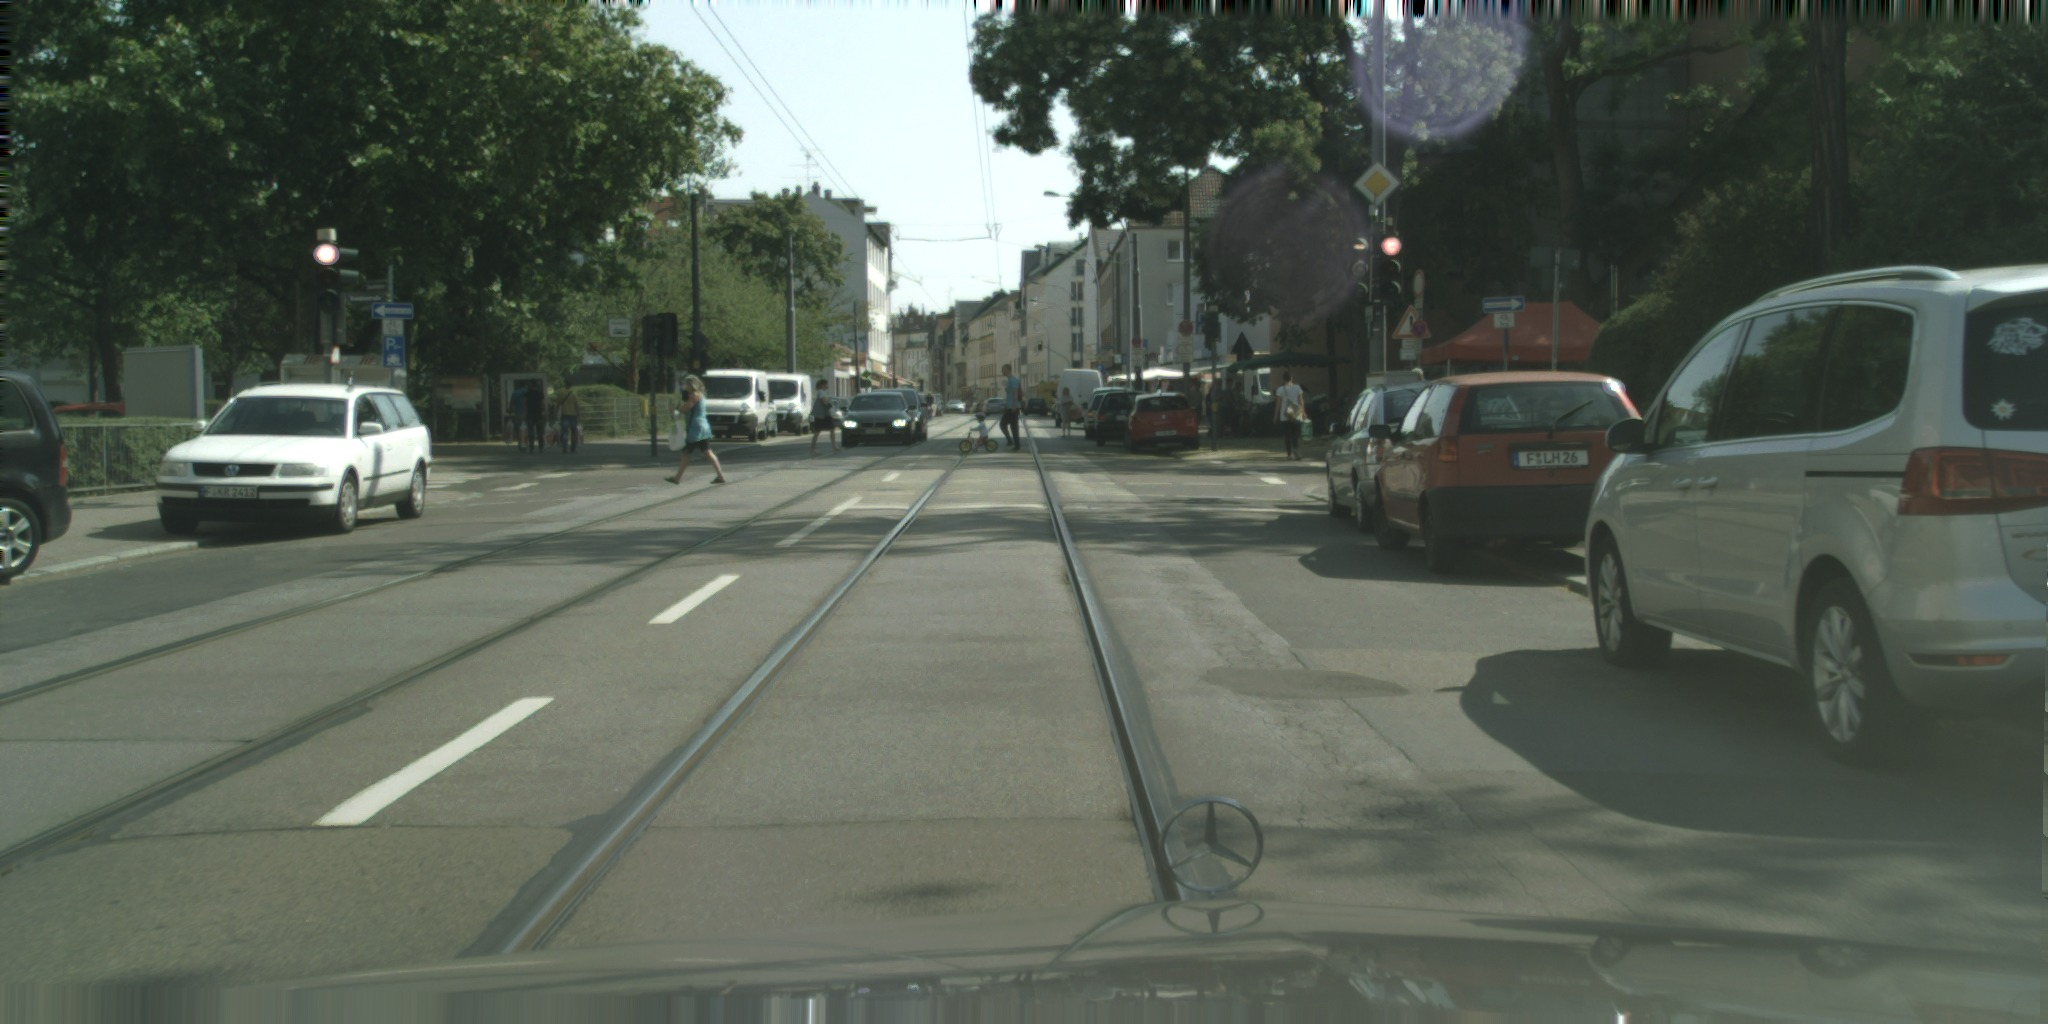bicycle: (958, 429, 998, 454)
car: (1584, 264, 2048, 773), (1368, 369, 1648, 572), (156, 371, 431, 537), (1325, 383, 1430, 534), (0, 372, 71, 580), (697, 368, 769, 443), (1120, 389, 1199, 455), (840, 392, 915, 448), (764, 372, 813, 437), (1092, 390, 1147, 447), (1051, 369, 1103, 428), (875, 389, 929, 443), (1082, 387, 1133, 440), (809, 397, 856, 433), (758, 395, 778, 440), (1037, 382, 1063, 413), (1023, 399, 1048, 417), (944, 399, 965, 413)
person: (665, 374, 727, 485), (1273, 371, 1315, 462), (519, 380, 556, 458), (552, 381, 585, 456), (810, 378, 841, 455), (999, 363, 1022, 452), (504, 382, 532, 453), (1231, 382, 1248, 437), (1221, 379, 1237, 438), (1057, 386, 1074, 439), (1189, 381, 1203, 428), (1206, 391, 1214, 437)
rider: (970, 411, 988, 453)
